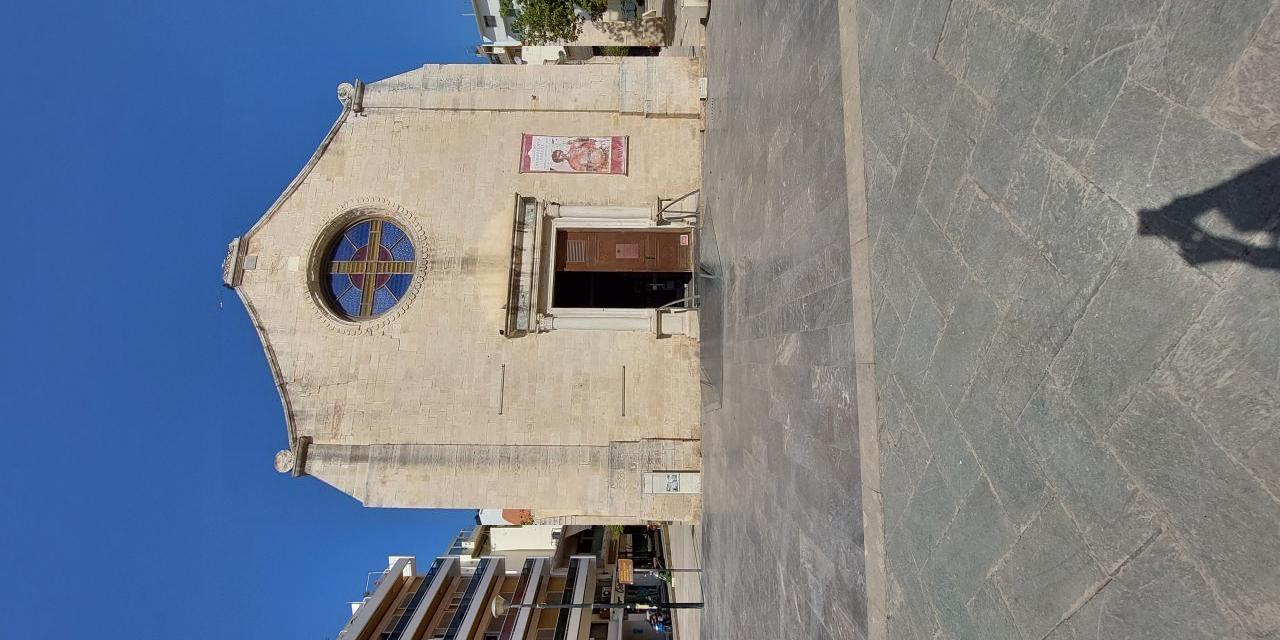Agia Aikaterini: (223, 47, 701, 526)
